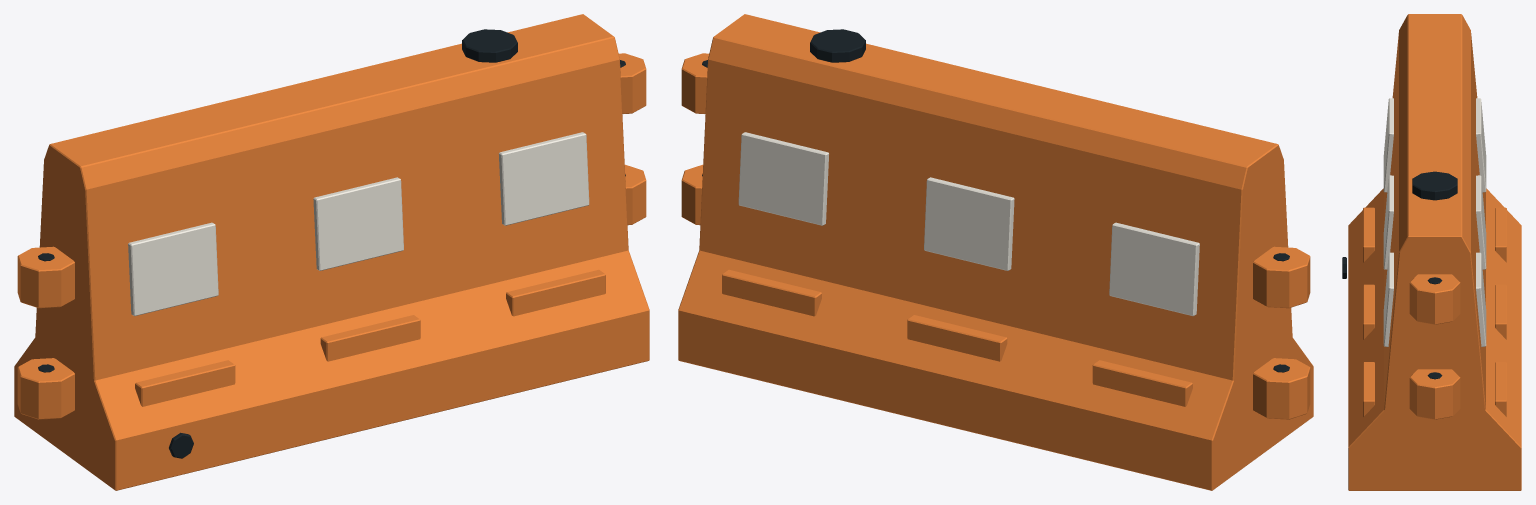
The model's file is b02_plastic_water_barrier.glb.
3 views of the same model, side by side, from view 1: azimuth 30°, elevation 25°; view 2: azimuth 150°, elevation 25°; view 3: azimuth 270°, elevation 25° (orthographic). The views are drawn at different scales.
Visible parts, largest first — view 1: b02_plastic_water_barrier; view 2: b02_plastic_water_barrier; view 3: b02_plastic_water_barrier.
Boxes of the visible parts, box(x1,y1,x2,y2) form: b02_plastic_water_barrier: box(14, 14, 649, 490); b02_plastic_water_barrier: box(678, 14, 1313, 490); b02_plastic_water_barrier: box(1342, 14, 1521, 490).
Bounding box in the file's own units: 2.05 × 0.975 × 0.6.
